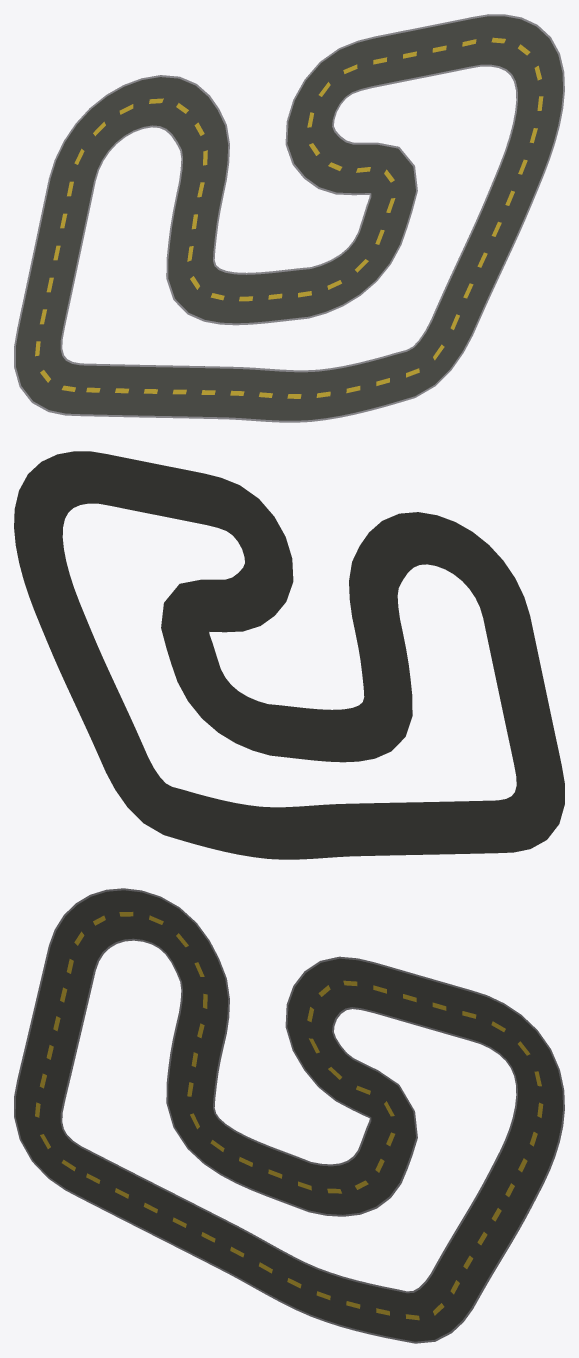
File: track.obj
3 renders of one model, top to bottom at view 1: azimuth 30°, elevation 25°; view 2: azimuth 150°, elevation 25°; view 3: azimuth 330°, elevation 25°, orthographic.
Bounding box in the file's own units: 12.05 × 8.12 × 0.002.
